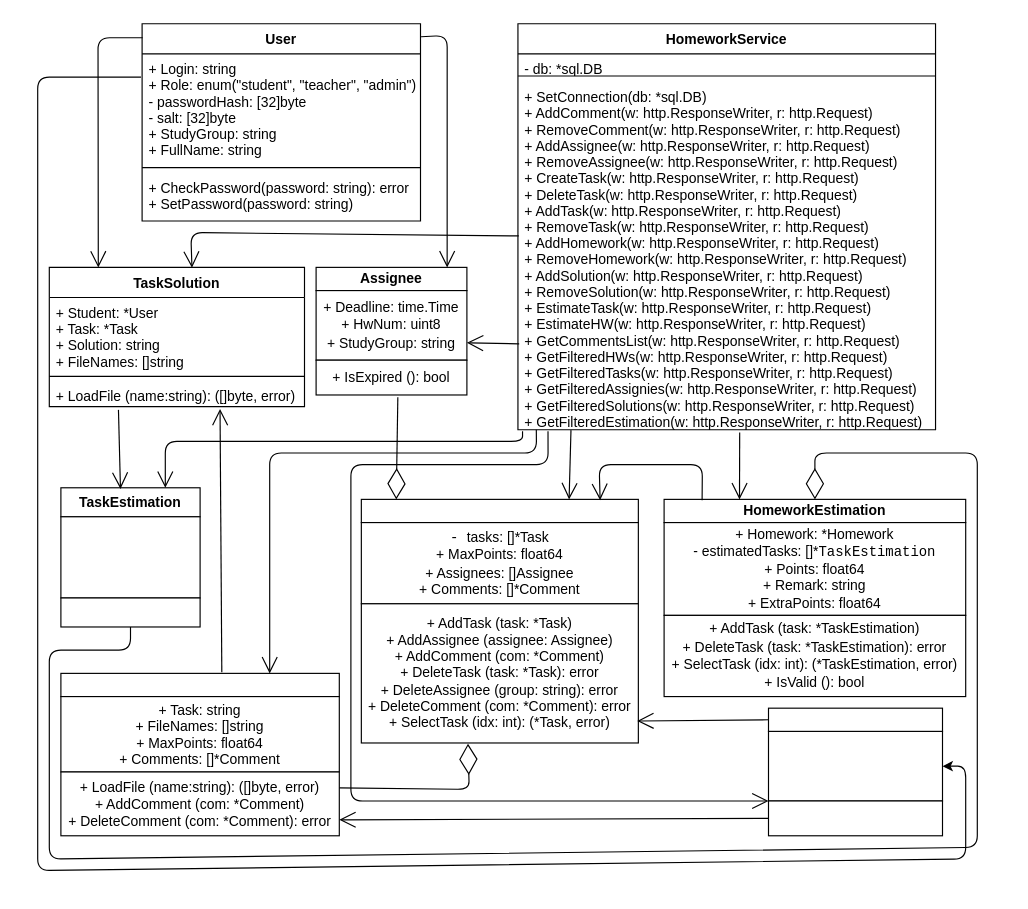
The diagram is 1028 pixels wide and 909 high, and some of its shapes have lost their labels. The box of each missing label's shape, as (x1, y1, x2, y2) in pixels:
+ AssignedTo: *Comment + Content: string + Time: time.Time + Author: *User: (767, 730, 942, 801)
+ IsAssigned (): bool: (767, 800, 942, 836)
+ IsValid (): bool: (60, 597, 200, 627)
+ Sol: *TaskSolution + Points: float64 + ExtraPoints: float64 + Remark: string: (60, 516, 200, 598)
Comment: (767, 707, 942, 731)
Homework: (360, 498, 638, 523)
Task: (60, 672, 339, 697)
